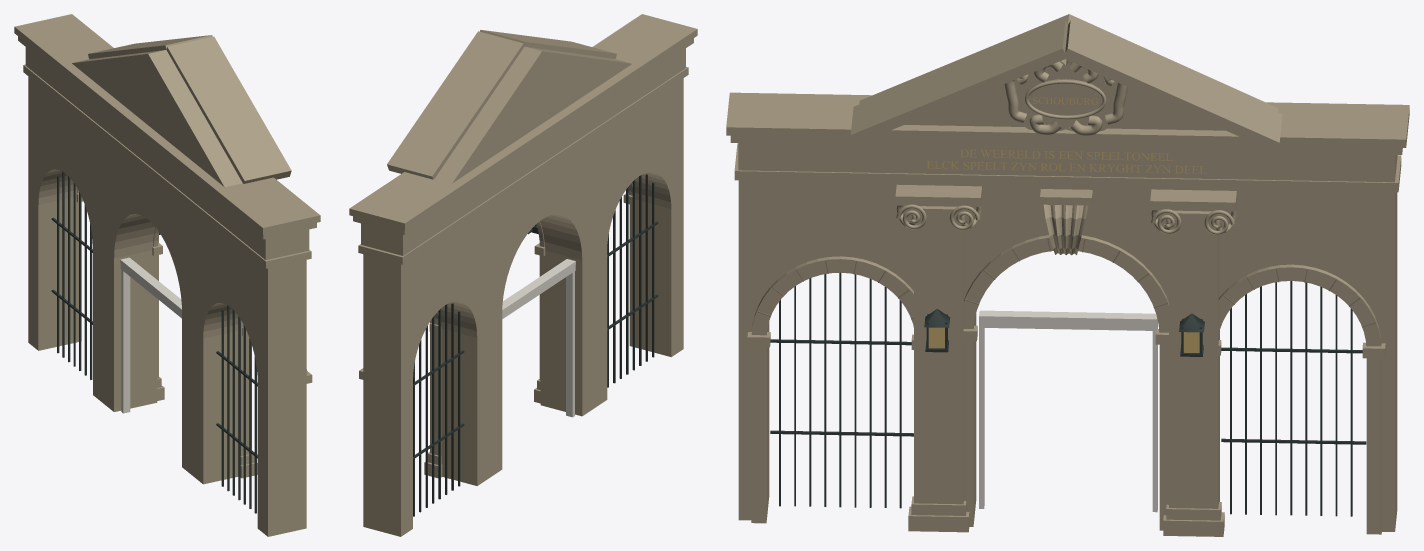
File: voormalige-schouwburgpoort.glb
The picture shows the model from 3 angles, left to right: view 1: azimuth 30°, elevation 25°; view 2: azimuth 150°, elevation 25°; view 3: azimuth 270°, elevation 25°; orthographic projection. The views are drawn at different scales.
Visible parts, largest first — view 1: voormalige-schouwburgpoort; view 2: voormalige-schouwburgpoort; view 3: voormalige-schouwburgpoort.
Part boxes in pixels (<box>): voormalige-schouwburgpoort: <box>14,14,320,536</box>; voormalige-schouwburgpoort: <box>349,14,697,536</box>; voormalige-schouwburgpoort: <box>726,14,1409,536</box>.
Bounding box in the file's own units: 1.81 × 6.49 × 8.15.
